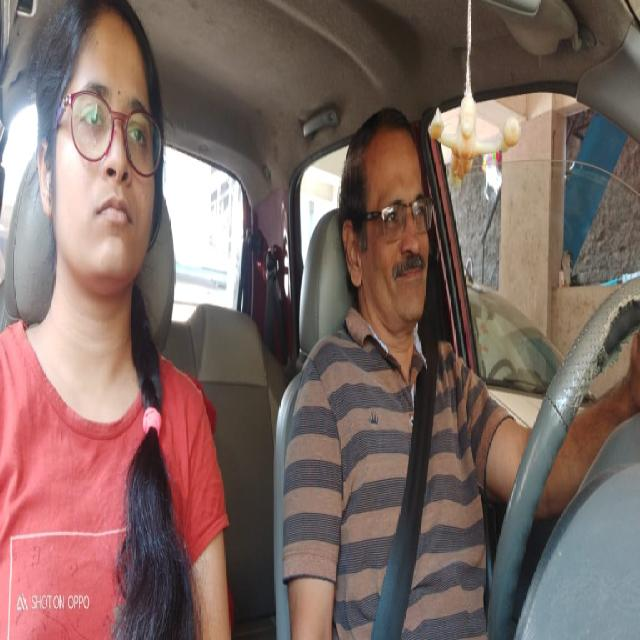person: (34, 0, 171, 321), (335, 96, 439, 375)
